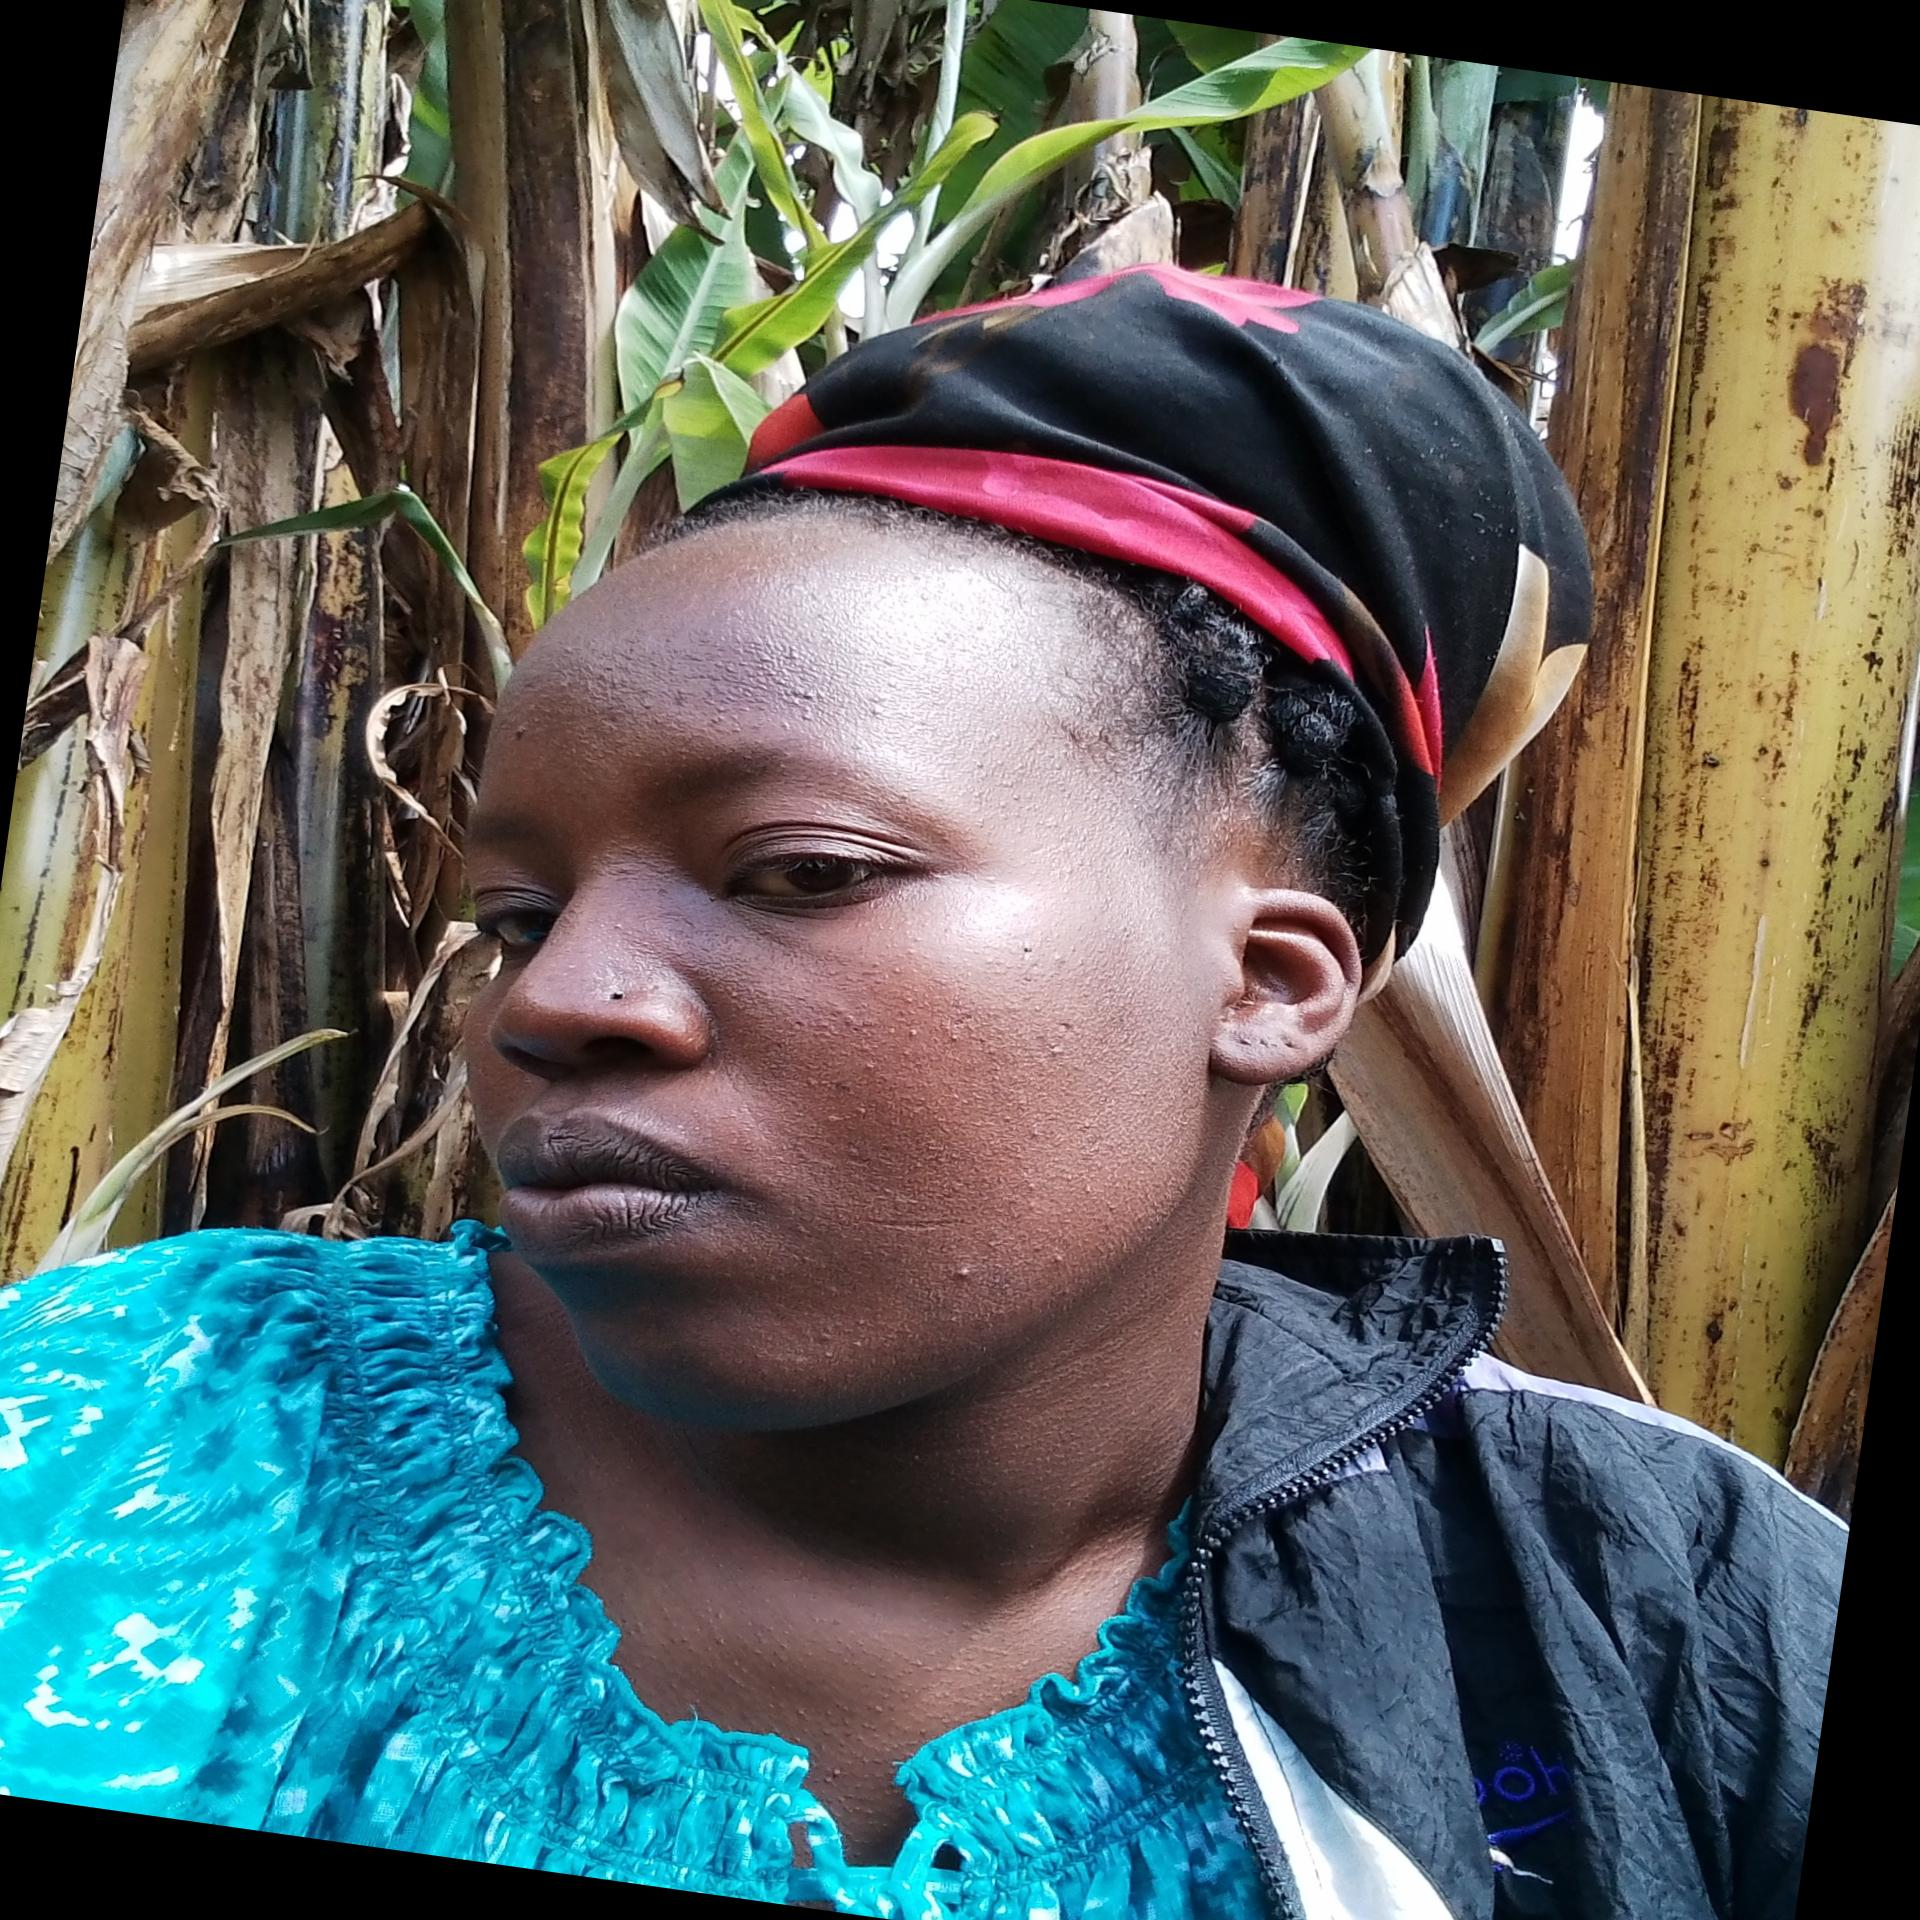Dry Skin: (677, 626, 856, 731)
